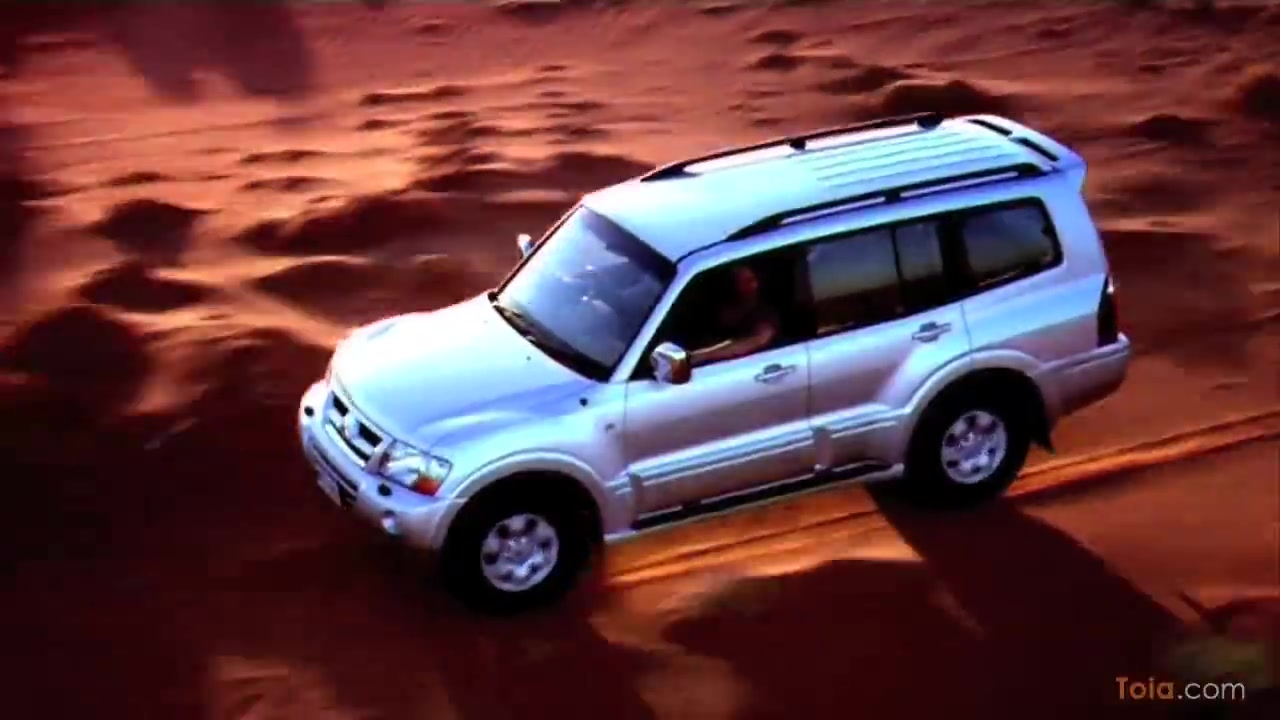car: (294, 102, 1137, 613)
